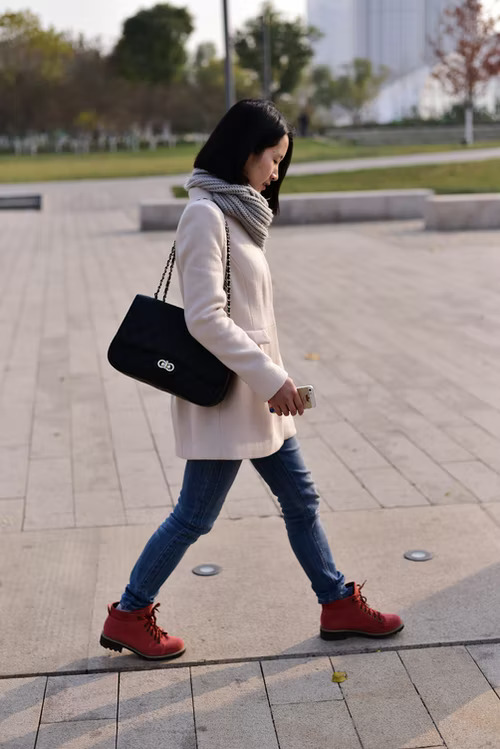person: (96, 99, 405, 658)
